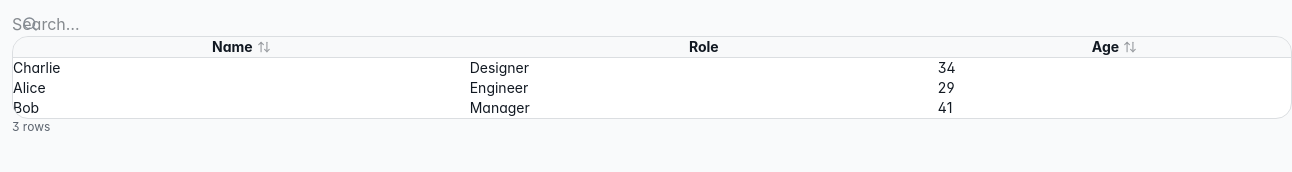
Test: DataTable › sorts by column on header click and toggles direction
Click the button "Name": {"x": 241, "y": 47} [212,37,271,57]
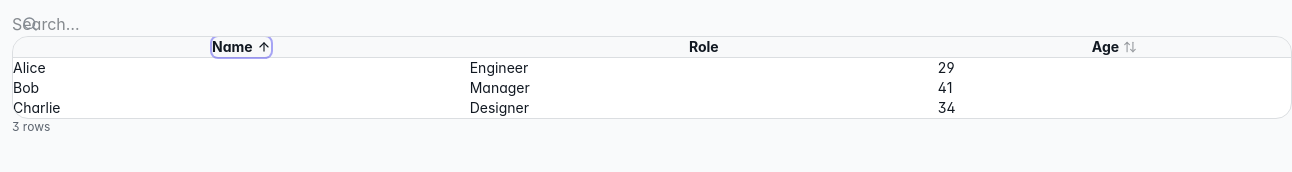
Expected: the text "Alice" is shown, [13,58,470,78]
Click the button "Name": {"x": 241, "y": 47} [212,37,271,57]
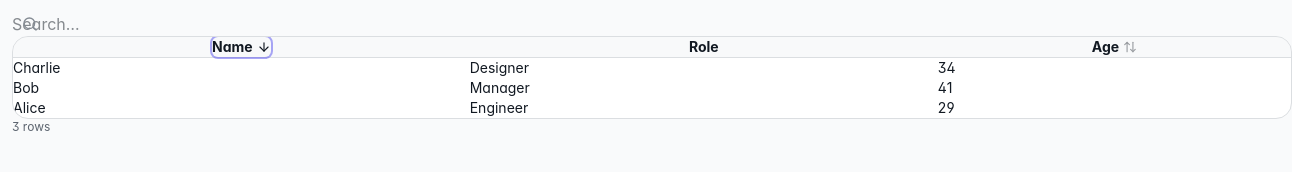
Expected: the text "Charlie" is shown, [13,58,470,78]
